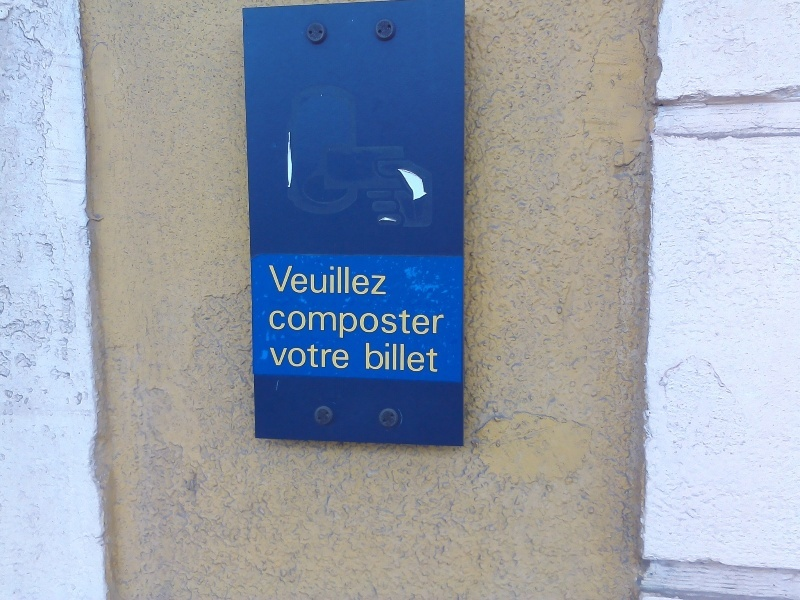text: (273, 262, 288, 296), (289, 262, 304, 296), (305, 262, 320, 296), (321, 262, 336, 296), (337, 262, 352, 296), (353, 262, 368, 296), (369, 262, 384, 296), (369, 342, 384, 374), (385, 342, 400, 374), (401, 342, 416, 374), (417, 342, 432, 374), (273, 309, 288, 340), (289, 309, 304, 340), (305, 309, 320, 340), (321, 309, 336, 340), (337, 309, 352, 340), (353, 309, 368, 340), (369, 309, 384, 340), (385, 309, 400, 340), (401, 309, 416, 340), (417, 309, 432, 340), (433, 309, 446, 340), (273, 344, 288, 370), (289, 344, 304, 370), (305, 344, 320, 370), (321, 344, 336, 370), (337, 344, 352, 370), (433, 342, 440, 374), (266, 262, 272, 296), (269, 309, 272, 340), (385, 262, 387, 296), (366, 342, 368, 374), (271, 344, 272, 370)
